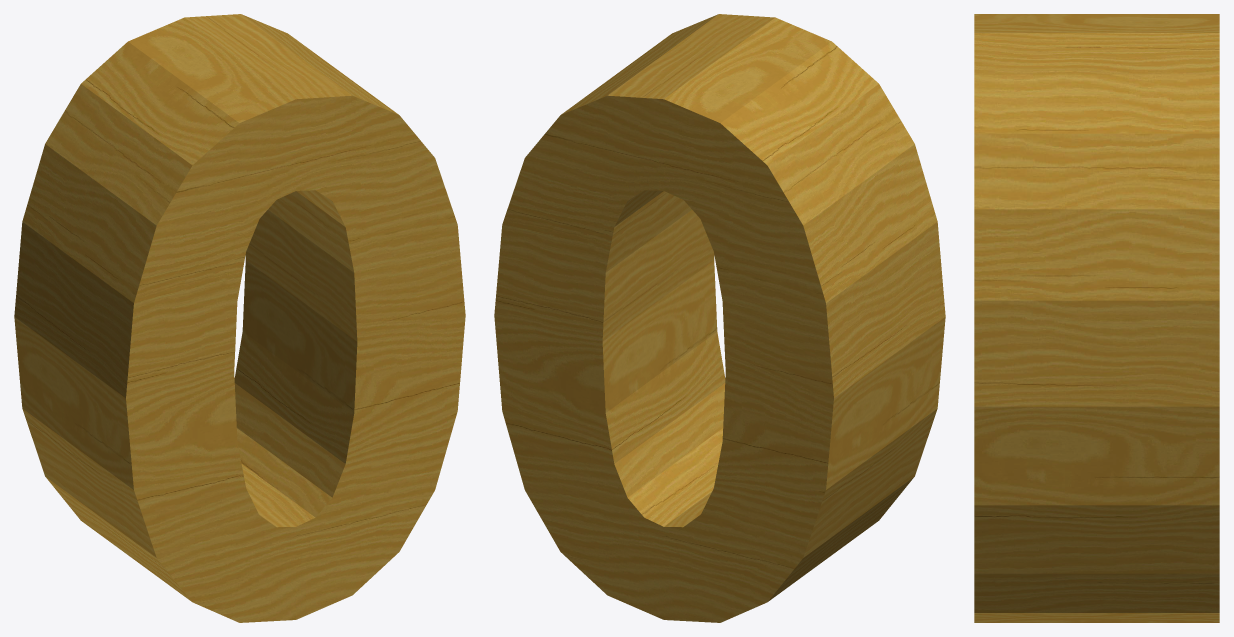
The model's file is MounTripElement_0.glb.
3 views of the same model, side by side, from view 1: azimuth 30°, elevation 25°; view 2: azimuth 150°, elevation 25°; view 3: azimuth 270°, elevation 25° (orthographic). The views are drawn at different scales.
Visible parts, largest first — view 1: 3D 0 - 0; view 2: 3D 0 - 0; view 3: 3D 0 - 0.
Boxes of the visible parts, x1=… form: 3D 0 - 0: x1=14, y1=14, x2=465, y2=622; 3D 0 - 0: x1=494, y1=14, x2=945, y2=622; 3D 0 - 0: x1=974, y1=14, x2=1219, y2=622.
Bounding box in the file's own units: 0.0263 × 0.0386 × 0.015.
Materials: 1 (1 with a texture image).
